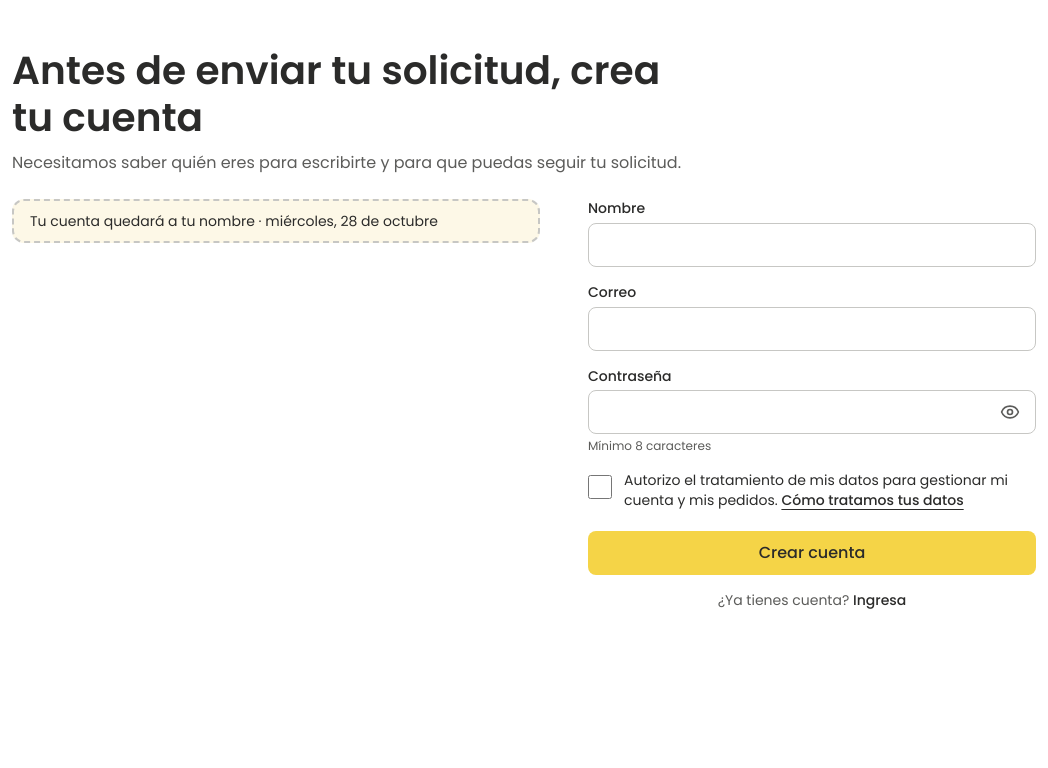
it: RegistrarPage › un 409 marca el correo y ofrece ingresar conservando el destino
Type "Ana Pérez" into the field labelled "Nombre".
click(812, 245); type("Ana Pérez")  # box [588,223,1036,267]
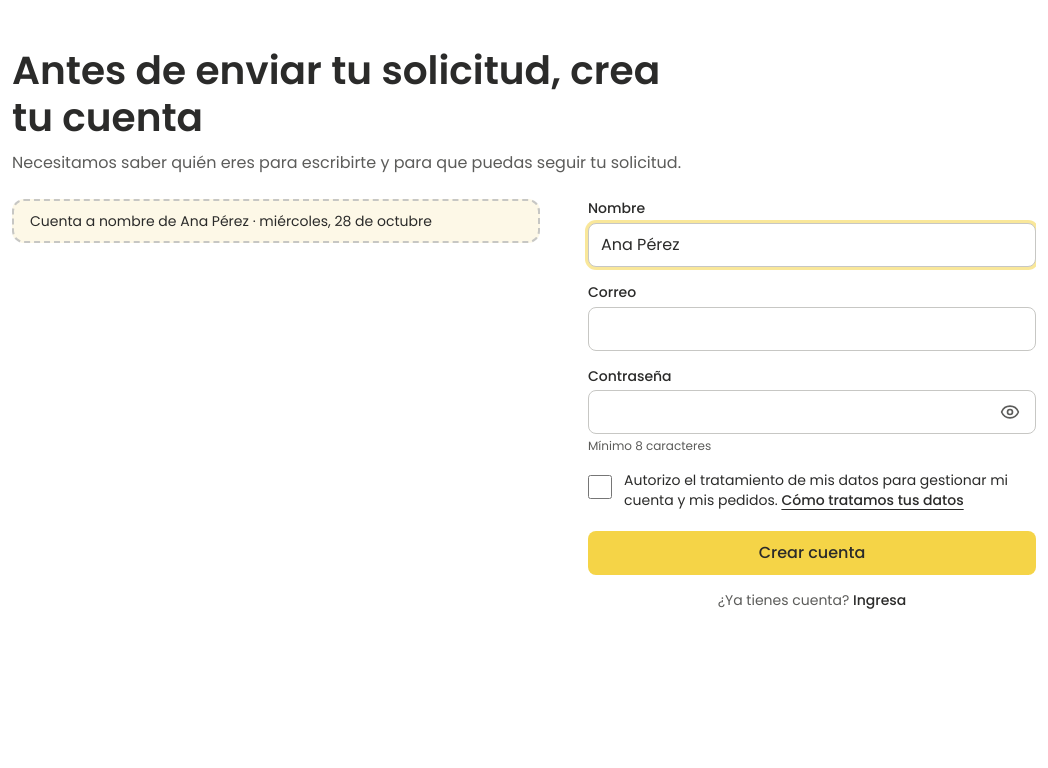
Type "ana@taju.co" into the field labelled "Correo".
click(812, 328); type("ana@taju.co")  # box [588,306,1036,350]
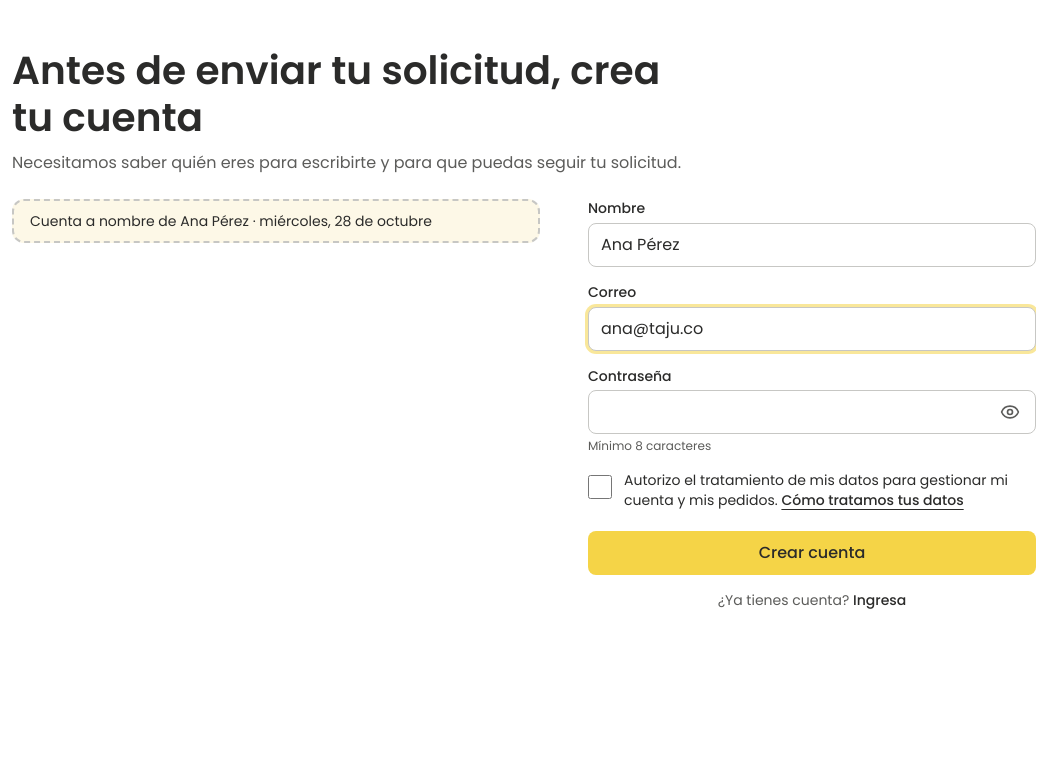
Type "clave-segura-123" into the password field labelled "Contraseña".
click(812, 412); type("clave-segura-123")  # box [588,390,1036,434]
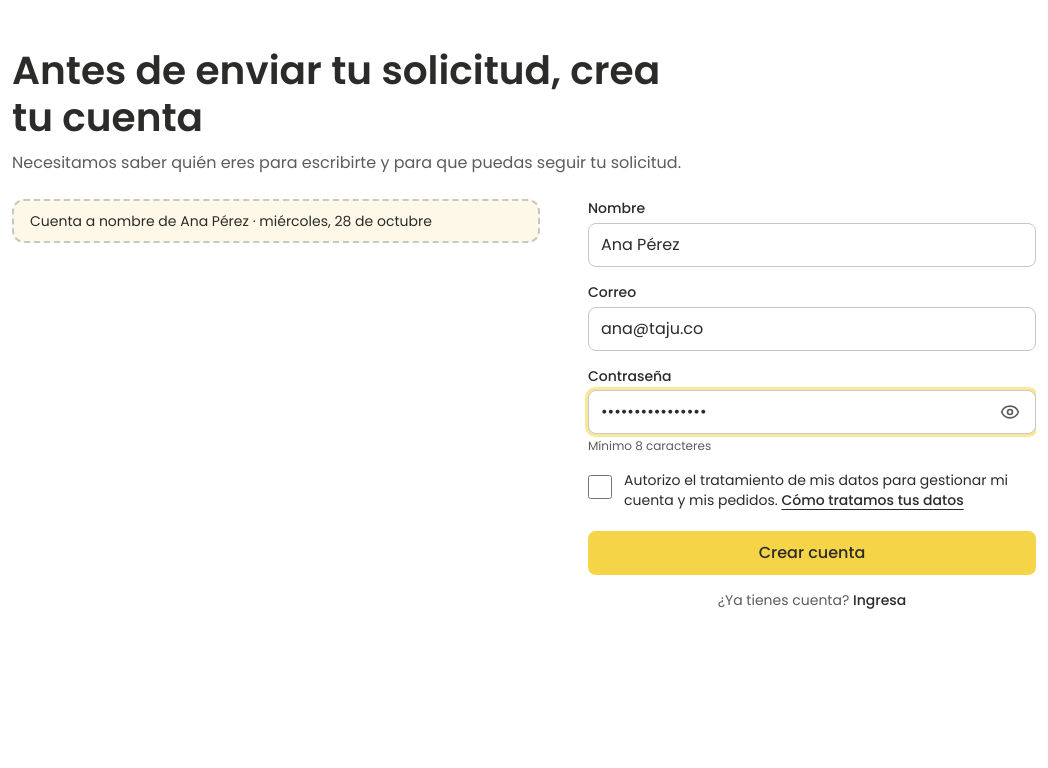
Click the checkbox labelled "Autorizo el tratamiento".
click(600, 487)  # box [588,475,612,499]
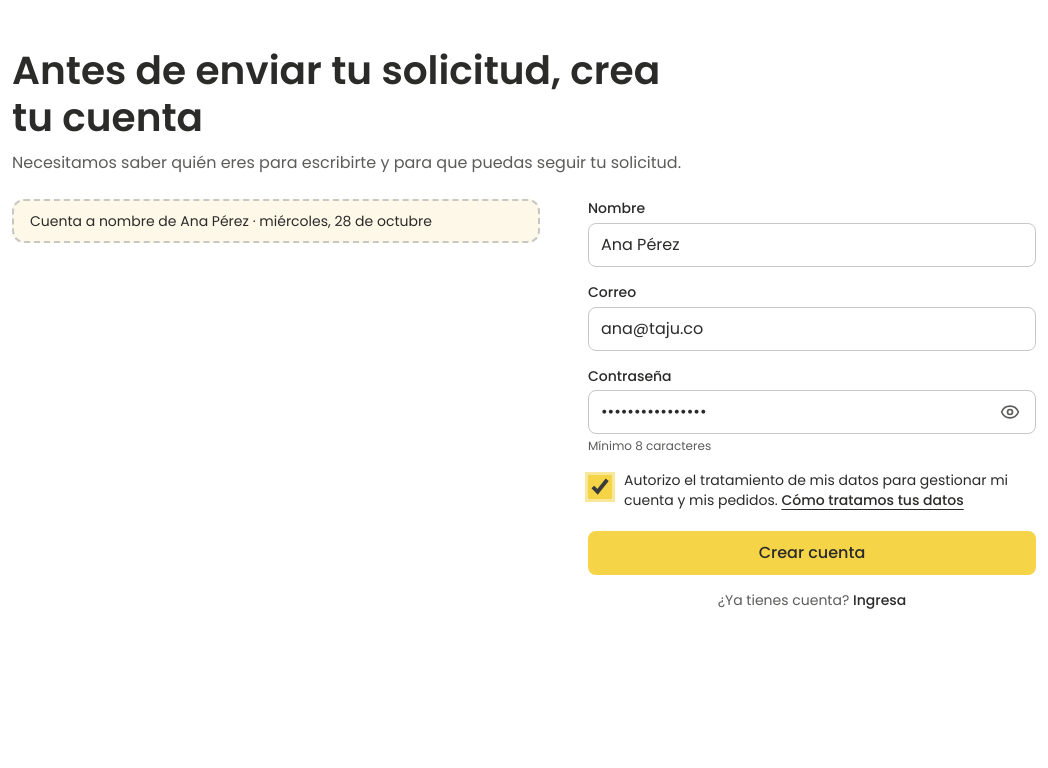
Click the button "Crear cuenta".
click(812, 553)  # box [588,531,1036,575]
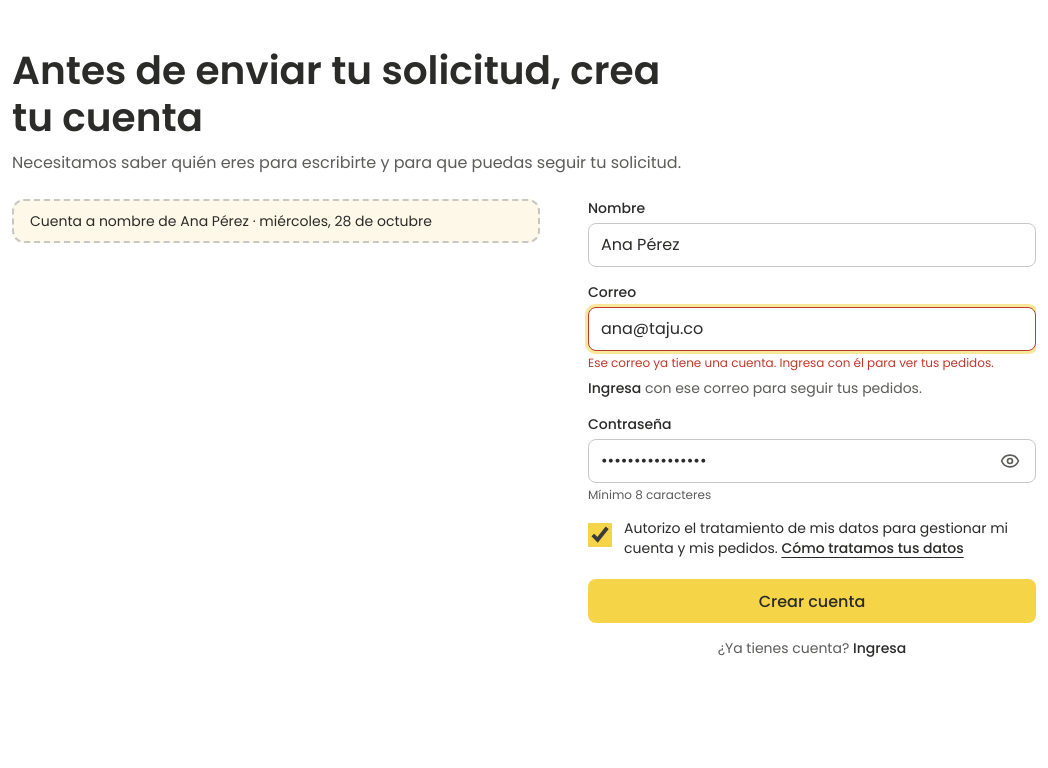
Expected: the text "Ese correo ya tiene una cuenta" is shown, [588,354,994,370]
Expected: the number of links "Ingresa" is 2, [588,378,641,398]; [853,638,906,658]
